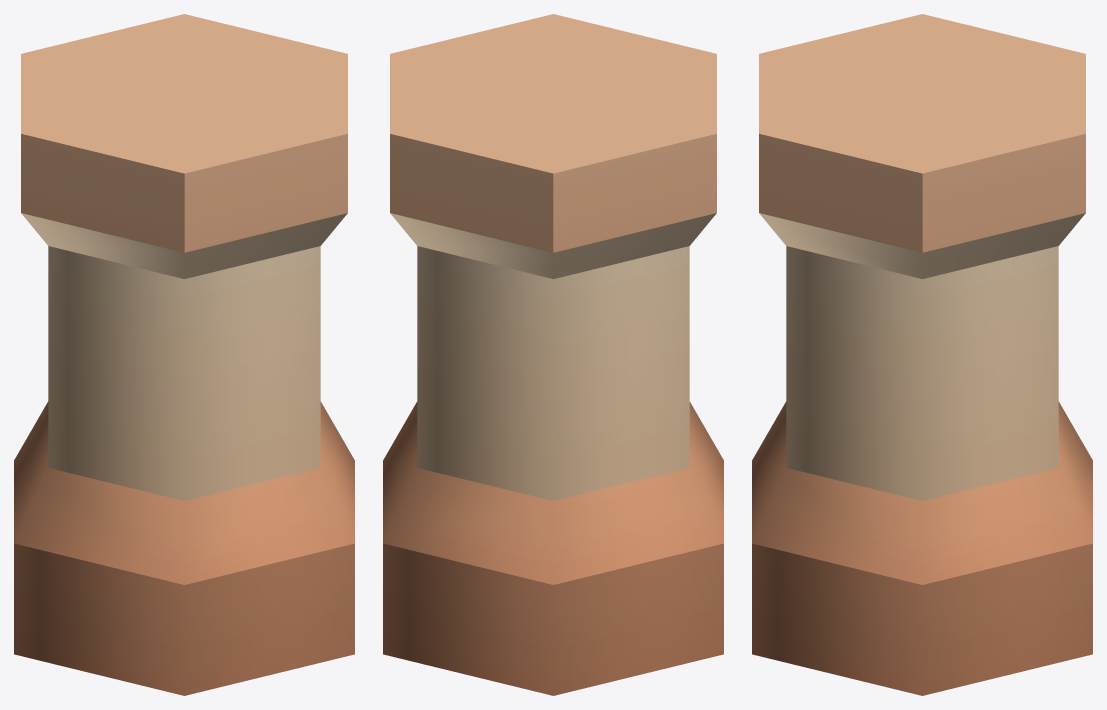
File: tower-hexagon-base.glb
3 renders of one model, left to right at view 1: azimuth 30°, elevation 25°; view 2: azimuth 150°, elevation 25°; view 3: azimuth 270°, elevation 25°, orthographic.
Visible parts, largest first — view 1: tower-hexagon-base; view 2: tower-hexagon-base; view 3: tower-hexagon-base.
Boxes of the visible parts, x1,y1,x2,y2 form: tower-hexagon-base: [14, 14, 354, 695]; tower-hexagon-base: [383, 14, 723, 695]; tower-hexagon-base: [752, 14, 1092, 695].
Size of the model in its own units: 0.8999 by 1.31 by 0.7794.
Materials: 1 (1 with a texture image).
